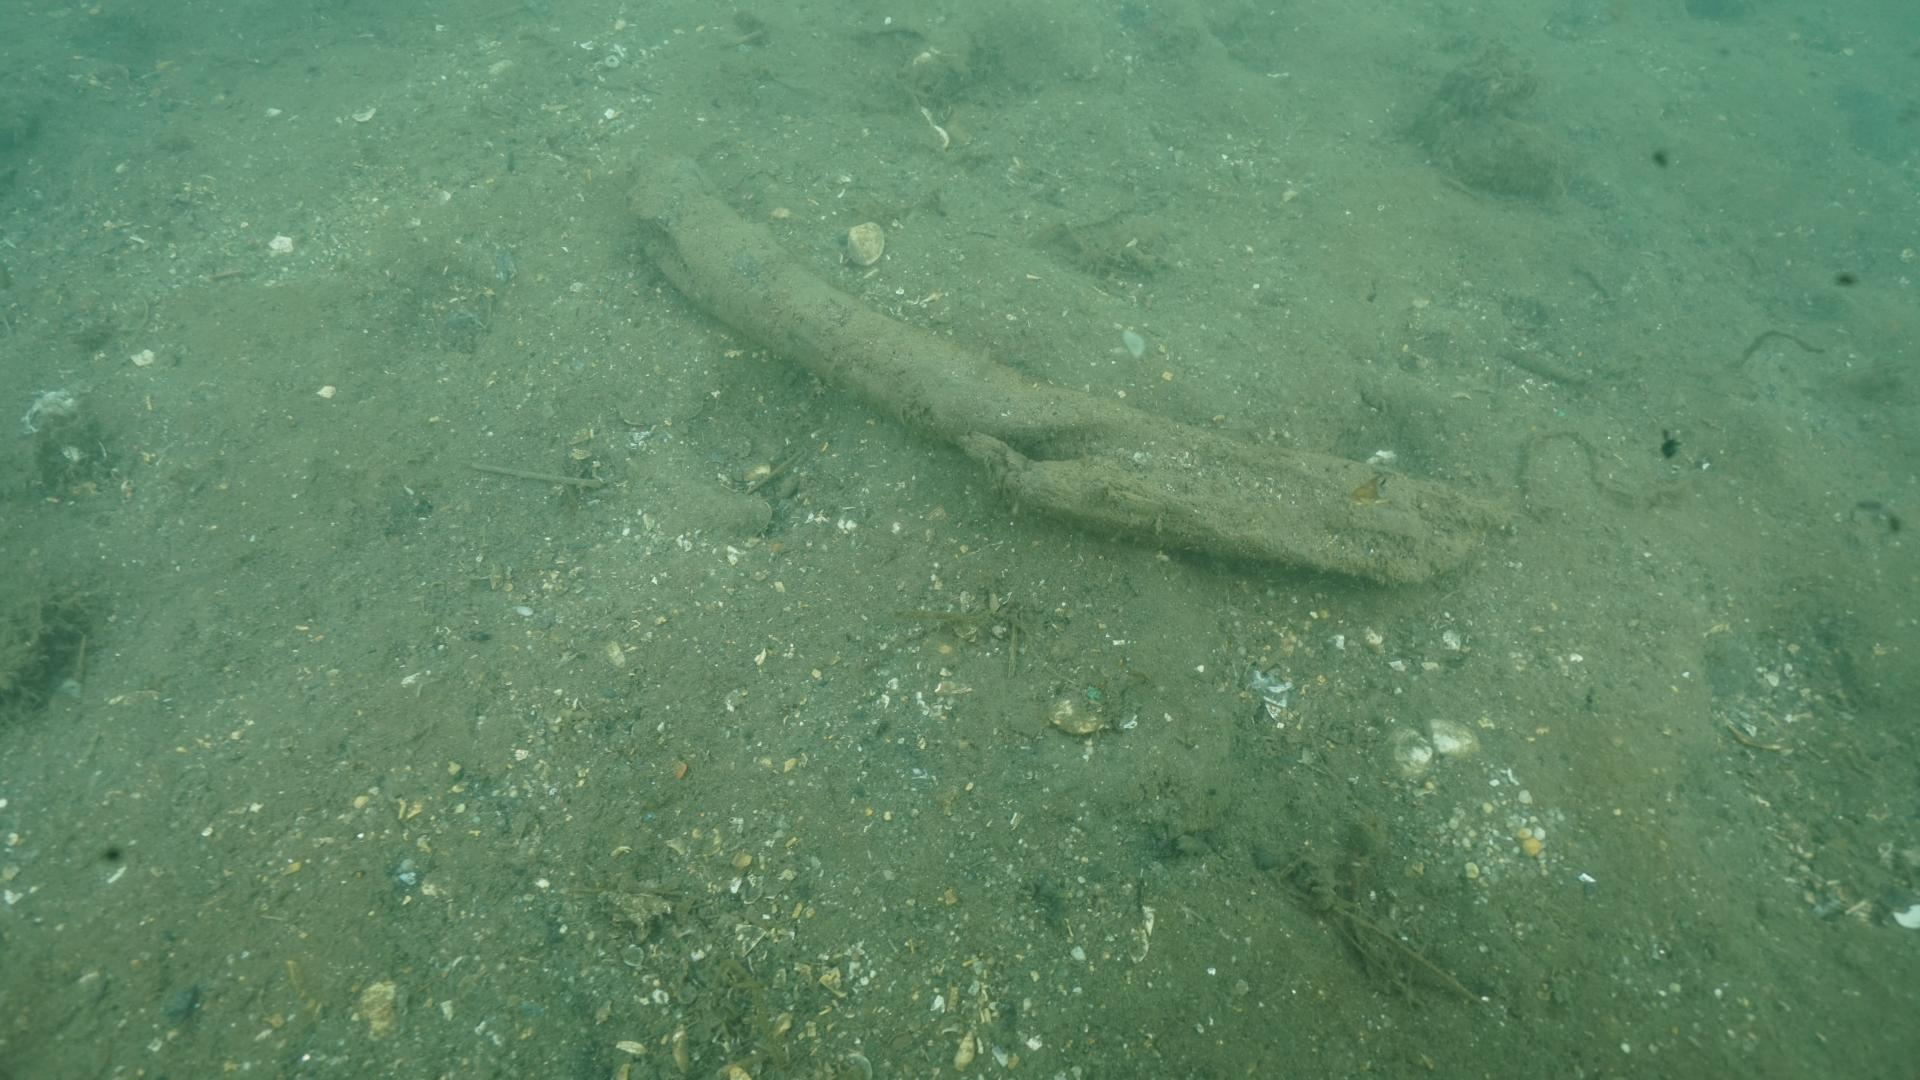wood: (620, 146, 1518, 588)
